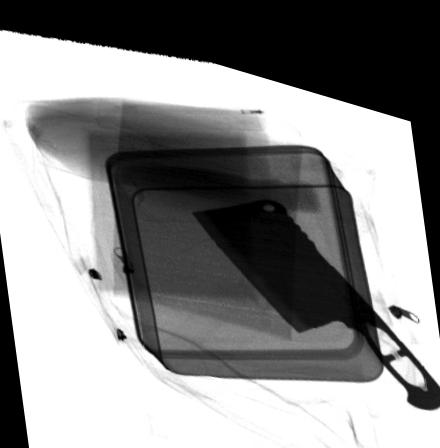Knife: (189, 181, 440, 385)
